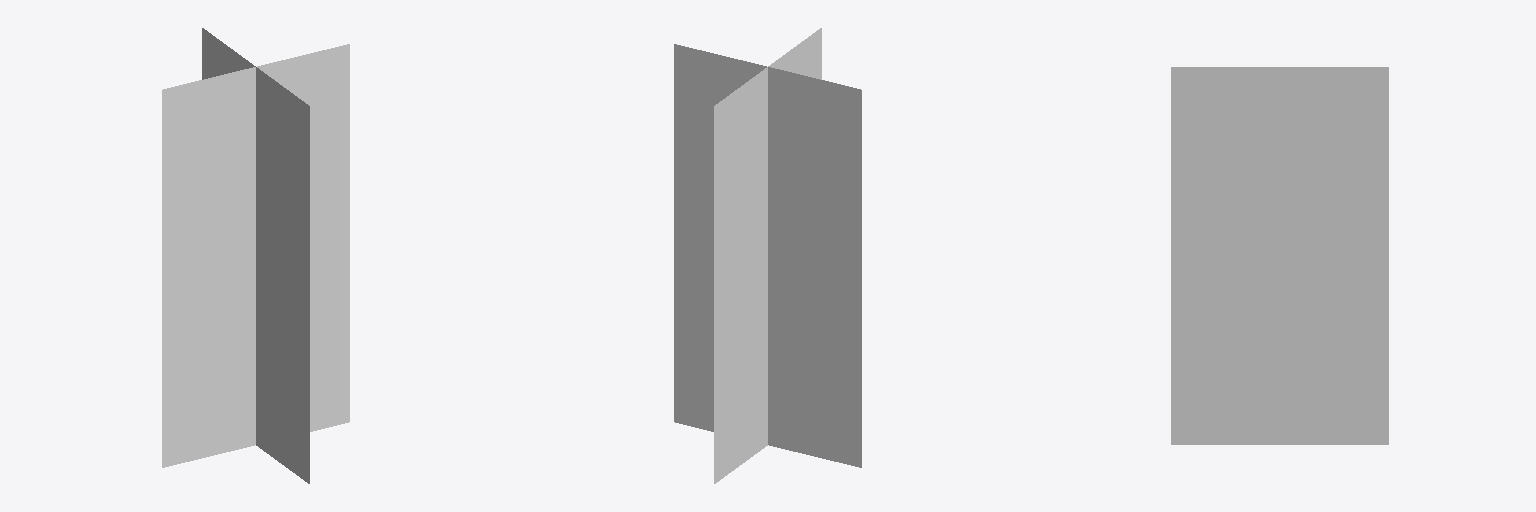
File: Giant_Sequoia_Fan_0.obj
3 views of the same model, side by side, from view 1: azimuth 30°, elevation 25°; view 2: azimuth 150°, elevation 25°; view 3: azimuth 270°, elevation 25° (orthographic).
Visible parts, largest first — view 1: CreateFan; view 2: CreateFan; view 3: CreateFan.
Part boxes in pixels (left/top/right/bottom): CreateFan: left=162, top=28, right=349, bottom=483; CreateFan: left=674, top=28, right=861, bottom=483; CreateFan: left=1171, top=67, right=1388, bottom=444.
Bounding box in the file's own units: 33.89 × 65 × 33.89.